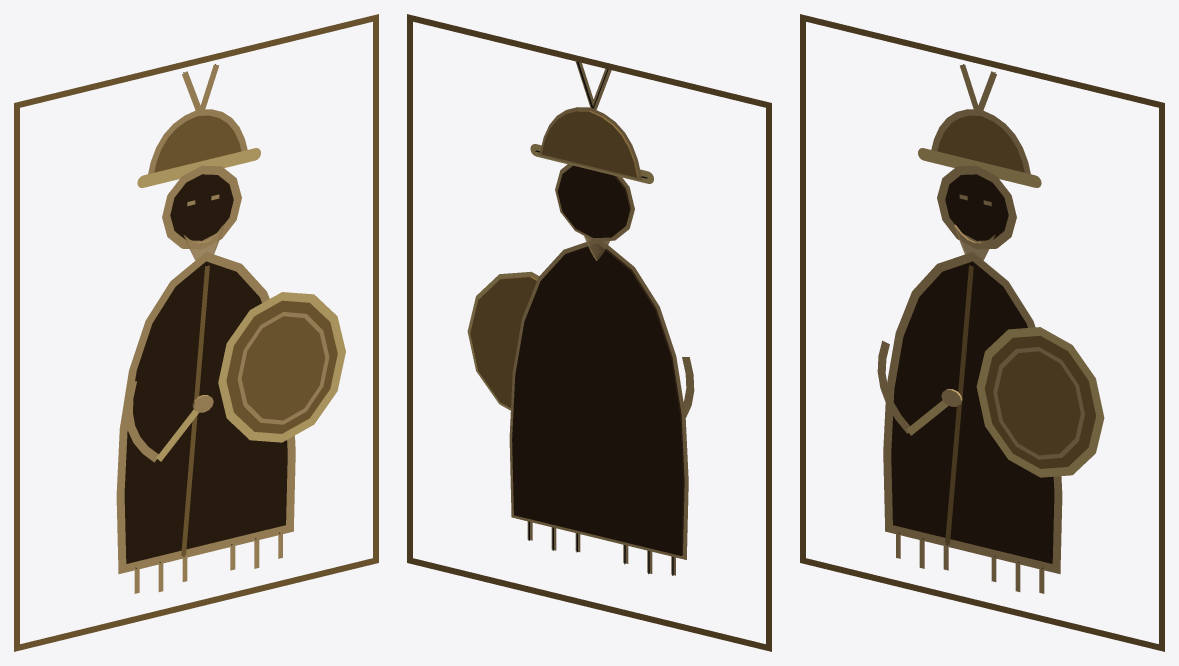
File: npc-kam.glb
The picture shows the model from 3 angles, left to right: view 1: azimuth 30°, elevation 25°; view 2: azimuth 150°, elevation 25°; view 3: azimuth 330°, elevation 25°; orthographic projection.
Visible parts, largest first — view 1: npc-kam; view 2: npc-kam; view 3: npc-kam.
Boxes of the visible parts, left/top/right/bottom form: npc-kam: left=14, top=14, right=378, bottom=651; npc-kam: left=407, top=14, right=771, bottom=651; npc-kam: left=800, top=14, right=1164, bottom=651.
Size of the model in its own units: 1.14 by 1.64 by 0.105.
